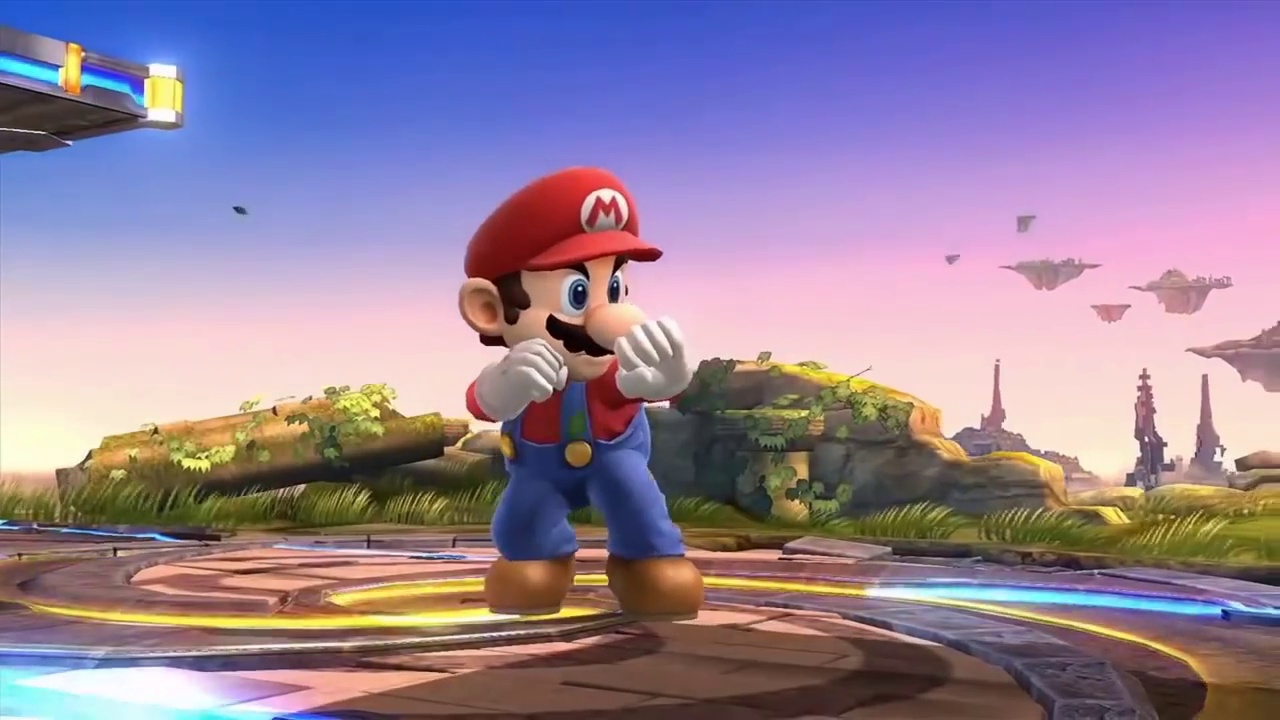Mario: (460, 166, 700, 619)
